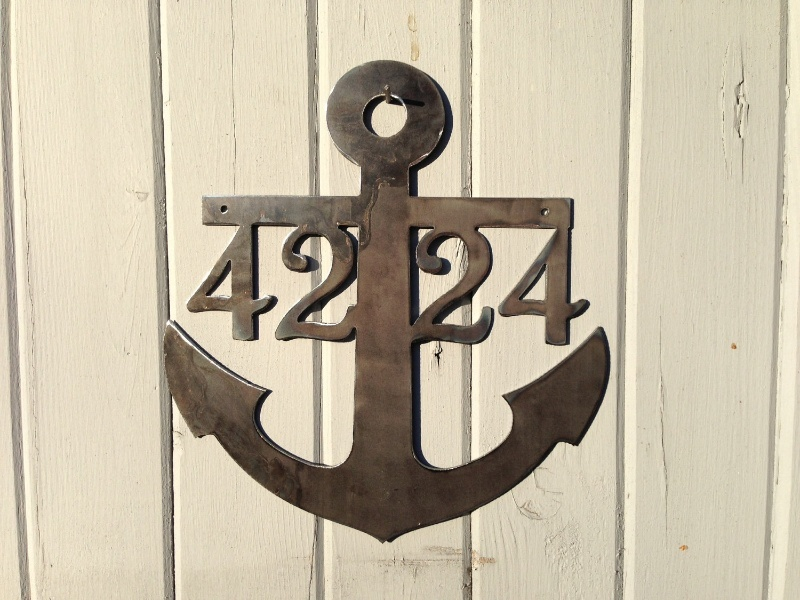text: (417, 225, 432, 350), (433, 225, 448, 350), (449, 225, 464, 350), (465, 225, 480, 350), (481, 225, 496, 350), (497, 225, 512, 350), (513, 225, 528, 350), (529, 225, 544, 350), (545, 225, 560, 350), (561, 225, 576, 350), (193, 223, 208, 342), (209, 223, 224, 342), (225, 223, 240, 342), (241, 223, 256, 342), (257, 223, 272, 342), (273, 223, 288, 342), (289, 223, 304, 342), (305, 223, 320, 342), (321, 223, 336, 342), (337, 223, 352, 342), (577, 225, 591, 350), (185, 223, 192, 342), (411, 225, 416, 350), (353, 223, 357, 342)
